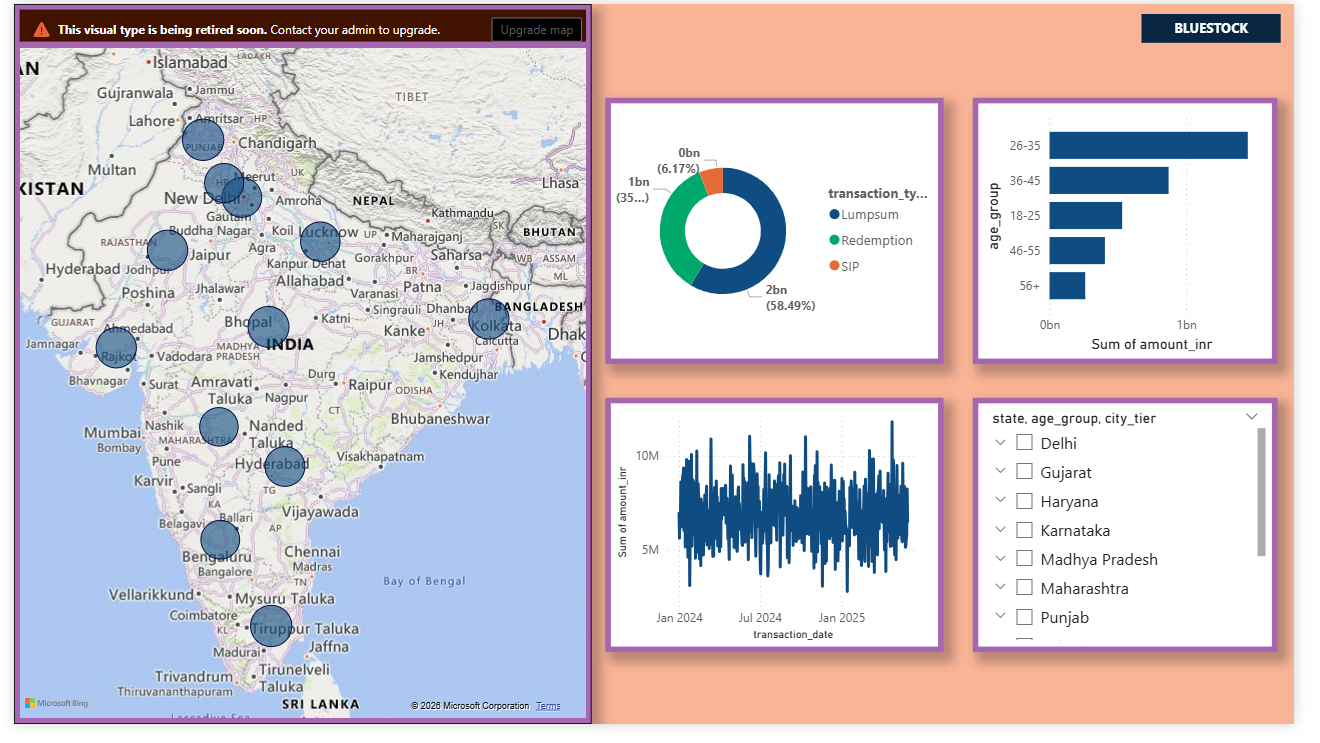

What the dashboard file says about the page in this screenshot:
{"tool":"powerbi","page":{"name":"Investor Analytics","canvas":[1280,720],"ordinal":2},"visuals":[{"type":"map","fields":{"Category":["investor_transactions_clean.state"],"Size":["Sum(investor_transactions_clean.amount_inr)"]},"box":[0,0,577.9,719.8],"z":0},{"type":"donutChart","fields":{"Y":["Sum(investor_transactions_clean.amount_inr)"],"Category":["investor_transactions_clean.transaction_type"]},"box":[591.9,94.2,338.4,266.3],"z":1000},{"type":"clusteredBarChart","fields":{"Y":["Sum(investor_transactions_clean.amount_inr)"],"Category":["investor_transactions_clean.age_group"]},"box":[958.1,94.2,304.7,266.3],"z":2000},{"type":"lineChart","fields":{"Y":["Sum(investor_transactions_clean.amount_inr)"],"Category":["investor_transactions_clean.transaction_date"]},"box":[590.7,394.2,338.4,254.7],"z":3000},{"type":"slicer","fields":{"Values":["investor_transactions_clean.state","investor_transactions_clean.age_group","investor_transactions_clean.city_tier"]},"box":[958.1,394.2,304.7,254.7],"z":4000},{"type":"textbox","box":[1127.9,10.5,139.5,29.1],"z":5000}]}

Visuals, with their boxes in screenshot pixels (x1, y1, x2, y2), scaled from the page's 1280x720 canvas onto the 1320x743 screenshot:
map - investor_transactions_clean.state x Sum(investor_transactions_clean.amount_inr): 0 0 596 742
donutChart - Sum(investor_transactions_clean.amount_inr) x investor_transactions_clean.transaction_type: 610 97 959 372
clusteredBarChart - Sum(investor_transactions_clean.amount_inr) x investor_transactions_clean.age_group: 988 97 1302 372
lineChart - Sum(investor_transactions_clean.amount_inr) x investor_transactions_clean.transaction_date: 609 407 958 670
slicer - investor_transactions_clean.state x investor_transactions_clean.age_group: 988 407 1302 670
textbox: 1163 11 1307 41
